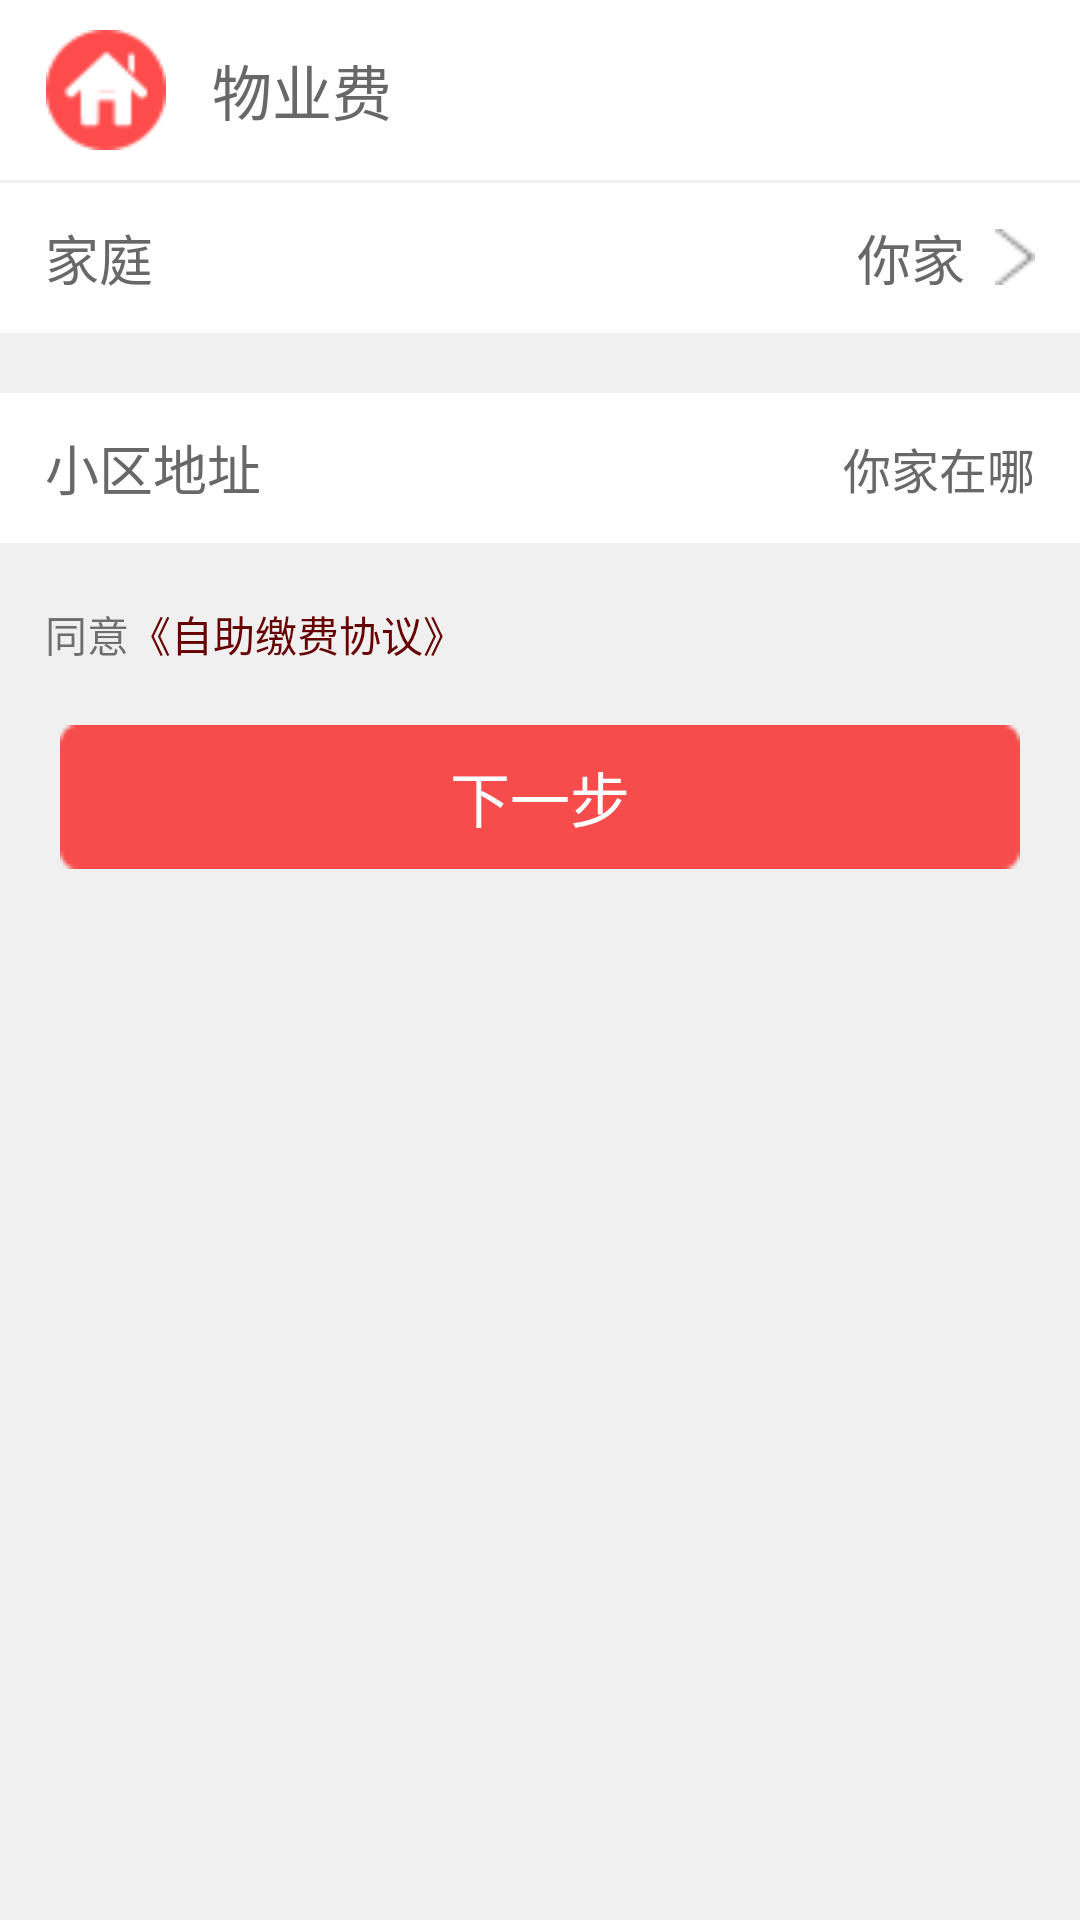

Icons on this 1080*1920 Android screen, each with the point to tap as point (x, y):
tenement fee: point (106, 90)
